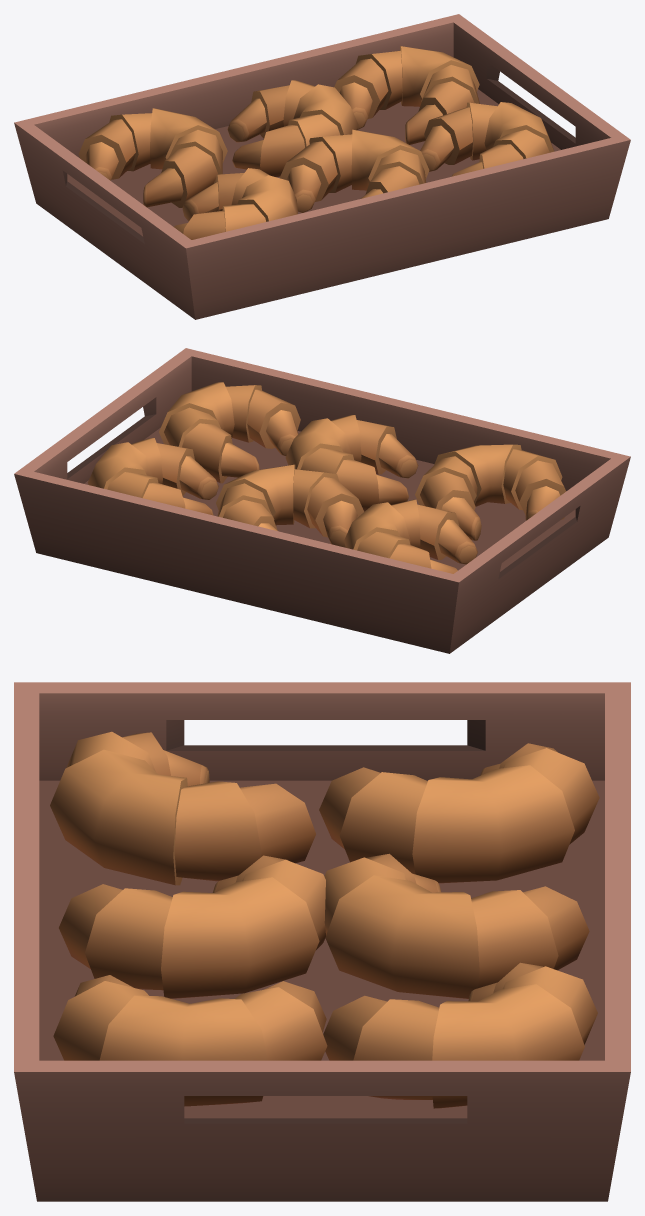
Rendered from croissant.fbx.
The picture shows the model from 3 angles, top to bottom: view 1: azimuth 30°, elevation 25°; view 2: azimuth 150°, elevation 25°; view 3: azimuth 270°, elevation 25°; orthographic projection. The views are drawn at different scales.
Parts seen in each view (by area): view 1: Plane.008, Torus.013, Torus.014, Torus.011, Torus.012, Torus.015, Torus.010; view 2: Plane.008, Torus.015, Torus.010, Torus.012, Torus.011, Torus.013, Torus.014; view 3: Plane.008, Torus.010, Torus.012, Torus.013, Torus.011, Torus.014, Torus.015.
Part boxes in pixels (bbox=[...]): Plane.008: bbox=[14, 14, 630, 319]; Torus.013: bbox=[78, 108, 227, 207]; Torus.014: bbox=[334, 46, 479, 144]; Torus.011: bbox=[227, 80, 358, 177]; Torus.012: bbox=[280, 129, 429, 212]; Torus.015: bbox=[420, 102, 554, 176]; Torus.010: bbox=[174, 168, 297, 239]; Plane.008: bbox=[14, 348, 630, 653]; Torus.015: bbox=[159, 382, 300, 483]; Torus.010: bbox=[415, 444, 566, 540]; Torus.012: bbox=[285, 415, 418, 511]; Torus.011: bbox=[216, 464, 364, 547]; Torus.013: bbox=[344, 499, 477, 573]; Torus.014: bbox=[88, 438, 218, 515]; Plane.008: bbox=[14, 682, 630, 1201]; Torus.010: bbox=[50, 731, 315, 885]; Torus.012: bbox=[59, 855, 325, 998]; Torus.013: bbox=[319, 743, 599, 883]; Torus.011: bbox=[324, 853, 589, 998]; Torus.014: bbox=[323, 962, 597, 1108]; Torus.015: bbox=[53, 975, 327, 1106].
Size of the model in its own units: 23.03 by 4.34 by 15.41.
